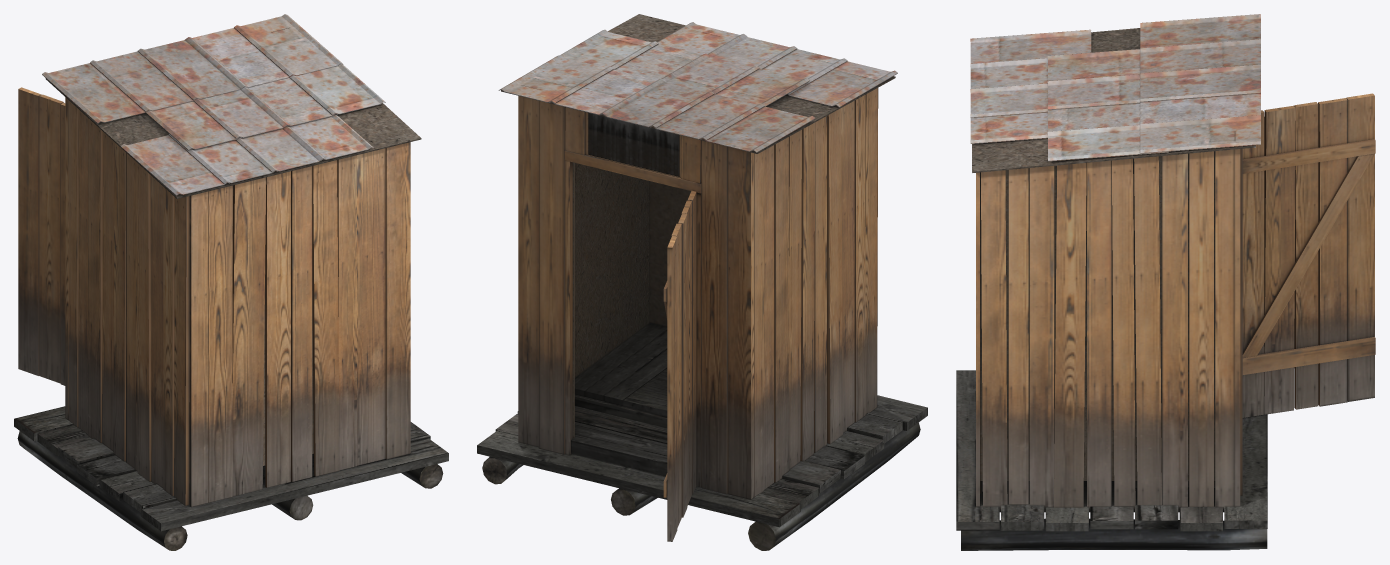
Rendered from asset#2.fbx.
3 views of the same model, side by side, from view 1: azimuth 30°, elevation 25°; view 2: azimuth 150°, elevation 25°; view 3: azimuth 270°, elevation 25° (orthographic). The views are drawn at different scales.
Visible parts, largest first — view 1: Object007_id_5, Object006_id_5, Object007_id_6, Object005_id_4, Object007_id_7, Object006_id_2, Object006_id_1, Object005_id_9; view 2: Object006_id_5, Object007_id_6, Object005_id_9, Object005_id_4, Object006_id_4, Object007_id_5, Object007_id_8, Object007_id_9, Object006_id_2, Object007_id_7, Object006_id_1; view 3: Object006_id_5, Object007_id_5, Object007_id_6, Object005_id_4, Object005_id_9, Object006_id_2, Object007_id_7.
Part boxes in pixels (left/top/right/bottom): Object007_id_5: left=18, top=87, right=410, bottom=506; Object006_id_5: left=65, top=27, right=289, bottom=505; Object007_id_6: left=42, top=14, right=385, bottom=195; Object005_id_4: left=14, top=406, right=448, bottom=531; Object007_id_7: left=45, top=78, right=421, bottom=198; Object006_id_2: left=17, top=431, right=424, bottom=549; Object006_id_1: left=164, top=464, right=443, bottom=550; Object005_id_9: left=189, top=185, right=313, bottom=482; Object006_id_5: left=518, top=85, right=878, bottom=499; Object007_id_6: left=498, top=22, right=897, bottom=152; Object005_id_9: left=572, top=162, right=649, bottom=437; Object005_id_4: left=477, top=395, right=927, bottom=527; Object006_id_4: left=571, top=322, right=667, bottom=476; Object007_id_5: left=585, top=112, right=696, bottom=541; Object007_id_8: left=588, top=113, right=679, bottom=176; Object007_id_9: left=649, top=181, right=691, bottom=326; Object006_id_2: left=486, top=422, right=920, bottom=549; Object007_id_7: left=501, top=14, right=895, bottom=153; Object006_id_1: left=482, top=458, right=775, bottom=550; Object006_id_5: left=981, top=131, right=1242, bottom=512; Object007_id_5: left=976, top=93, right=1375, bottom=506; Object007_id_6: left=970, top=14, right=1260, bottom=161; Object005_id_4: left=956, top=370, right=1267, bottom=531; Object005_id_9: left=980, top=151, right=1215, bottom=480; Object006_id_2: left=961, top=518, right=1267, bottom=550; Object007_id_7: left=972, top=28, right=1255, bottom=172.
Size of the model in its own units: 116 by 143 by 133.
